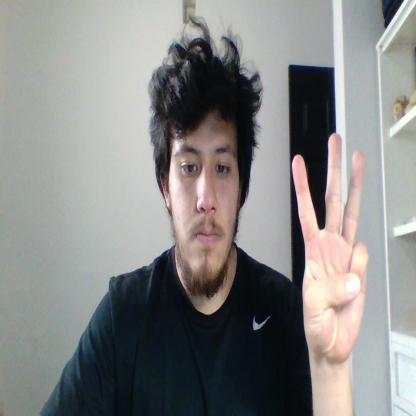W: (292, 132, 369, 361)
